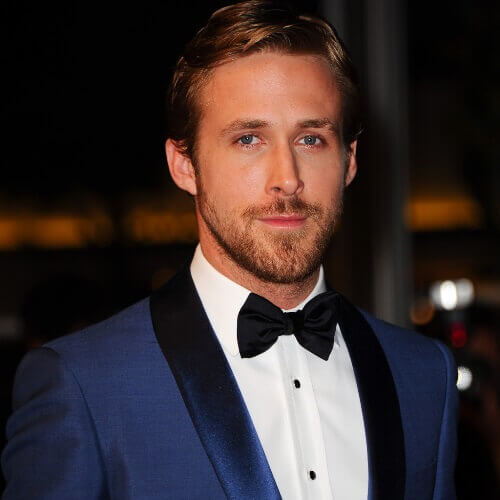bow: (228, 285, 348, 368)
